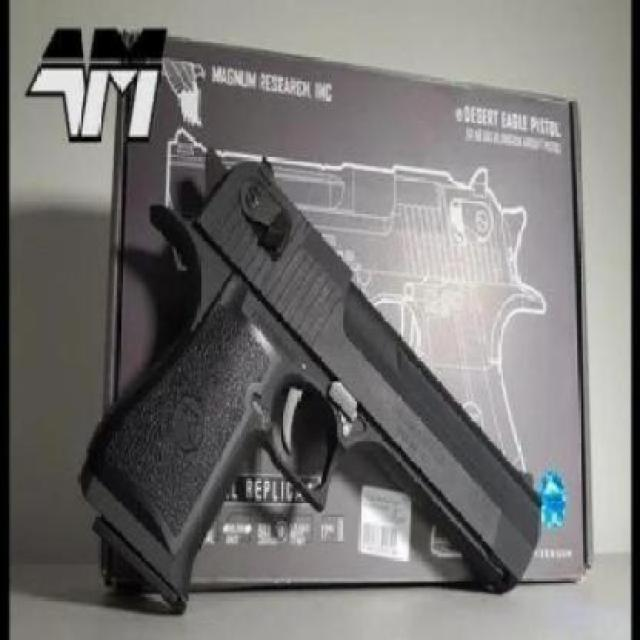gun: (75, 144, 559, 628)
